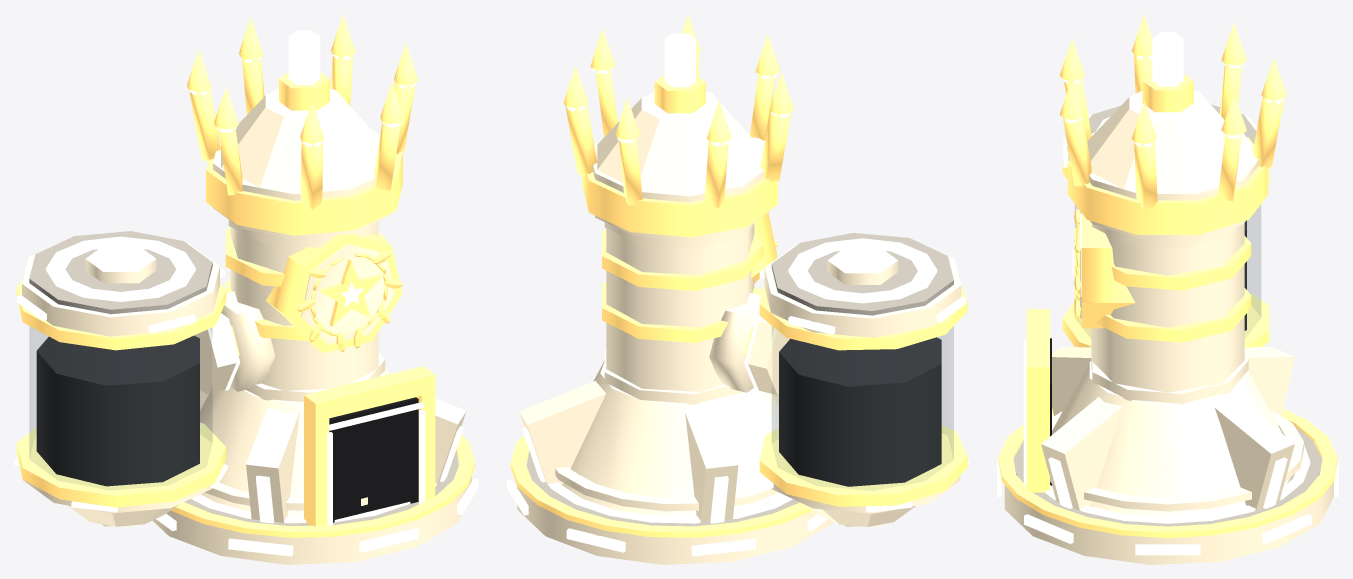
Rendered from Vat_Graduate_T1.glb.
The picture shows the model from 3 angles, left to right: view 1: azimuth 30°, elevation 25°; view 2: azimuth 150°, elevation 25°; view 3: azimuth 270°, elevation 25°; orthographic projection.
Parts seen in each view (by area): view 1: Vat_Graduate_T1; view 2: Vat_Graduate_T1; view 3: Vat_Graduate_T1.
Part boxes in pixels (left/top/right/bottom): Vat_Graduate_T1: left=14, top=14, right=478, bottom=564; Vat_Graduate_T1: left=507, top=14, right=968, bottom=564; Vat_Graduate_T1: left=997, top=14, right=1338, bottom=564.
Bounding box in the file's own units: 4.96 × 5.22 × 3.48.
